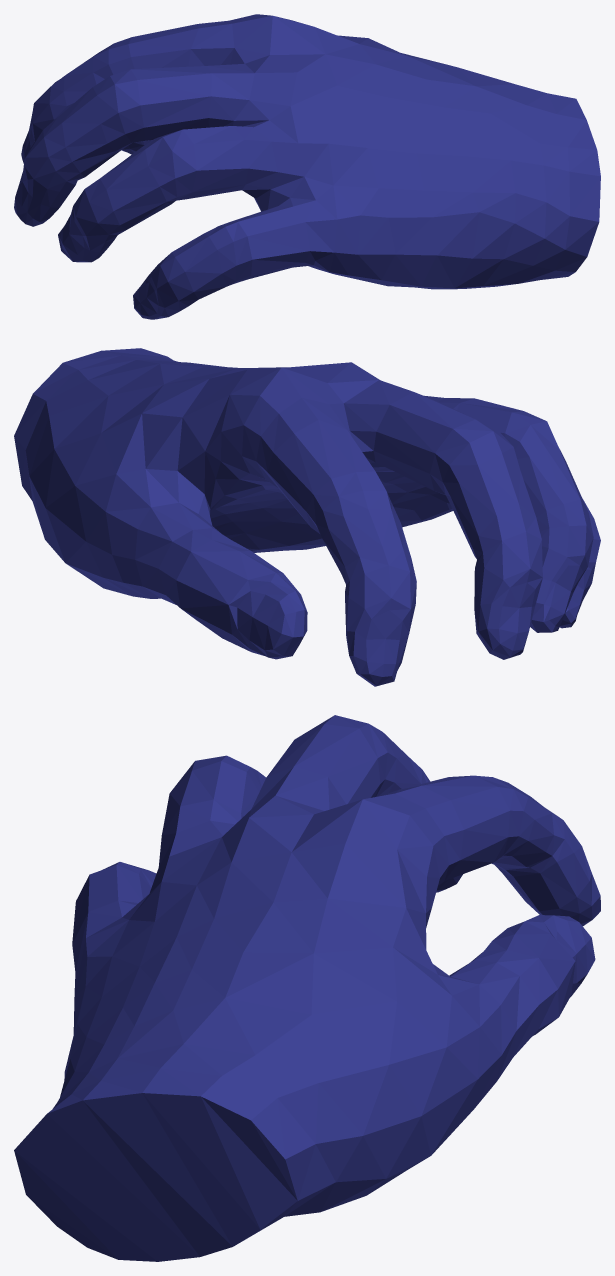
3 renders of one model, top to bottom at view 1: azimuth 30°, elevation 25°; view 2: azimuth 150°, elevation 25°; view 3: azimuth 270°, elevation 25°, orthographic. The views are drawn at different scales.
Bounding box in the file's own units: 0.1598 × 0.0773 × 0.1233.
